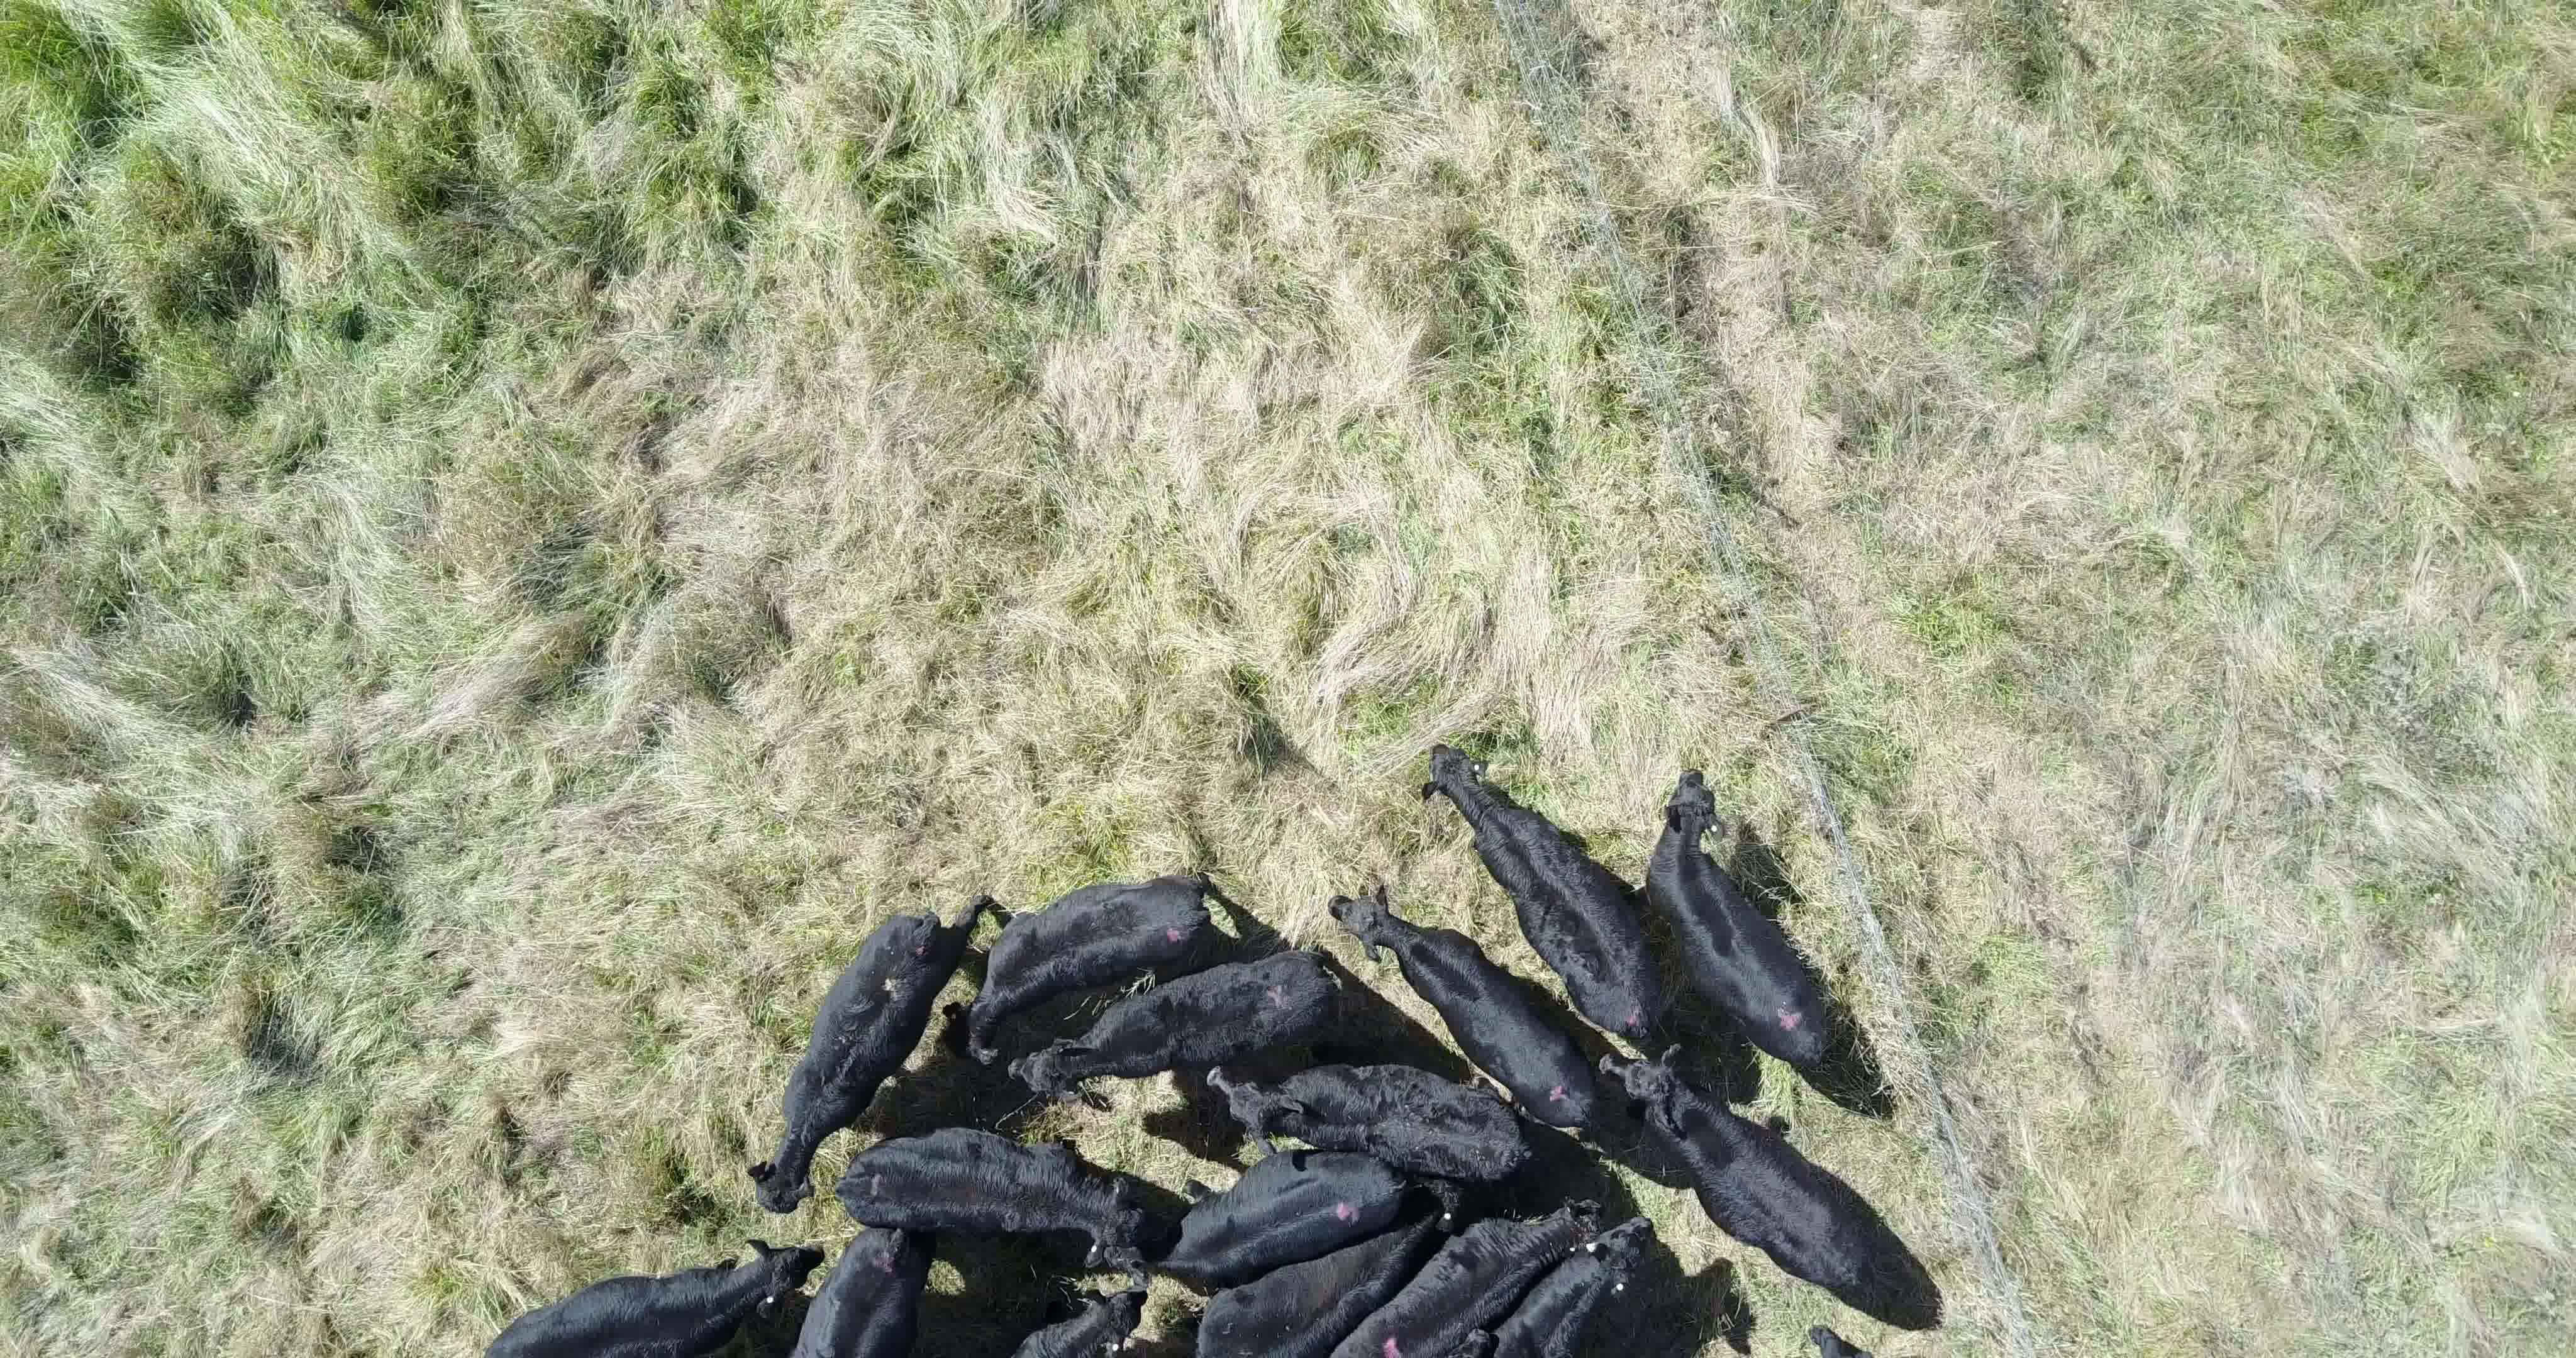cattle: (1595, 1041, 1908, 1300), (1416, 738, 1680, 1041), (1319, 881, 1605, 1128), (745, 895, 963, 1211), (1651, 765, 1828, 1065), (993, 952, 1346, 1102), (954, 872, 1206, 1058), (833, 1125, 1145, 1275), (1189, 1051, 1530, 1182), (475, 1234, 833, 1358), (1174, 1152, 1407, 1261)
